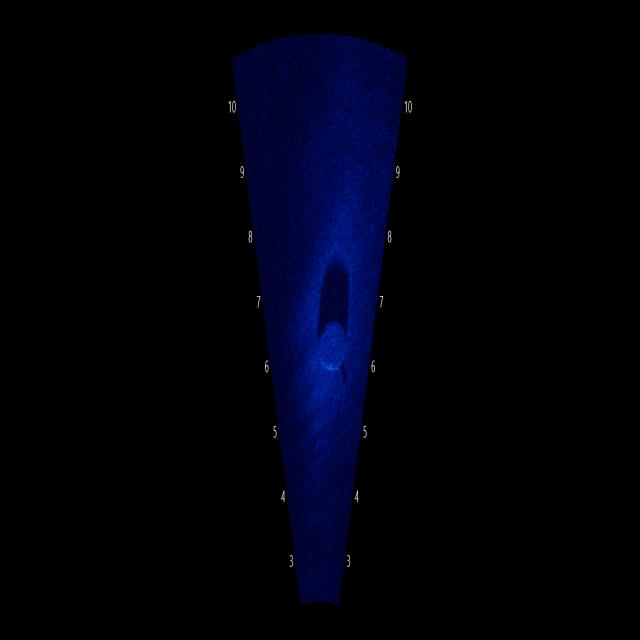circle: (310, 313, 354, 376)
